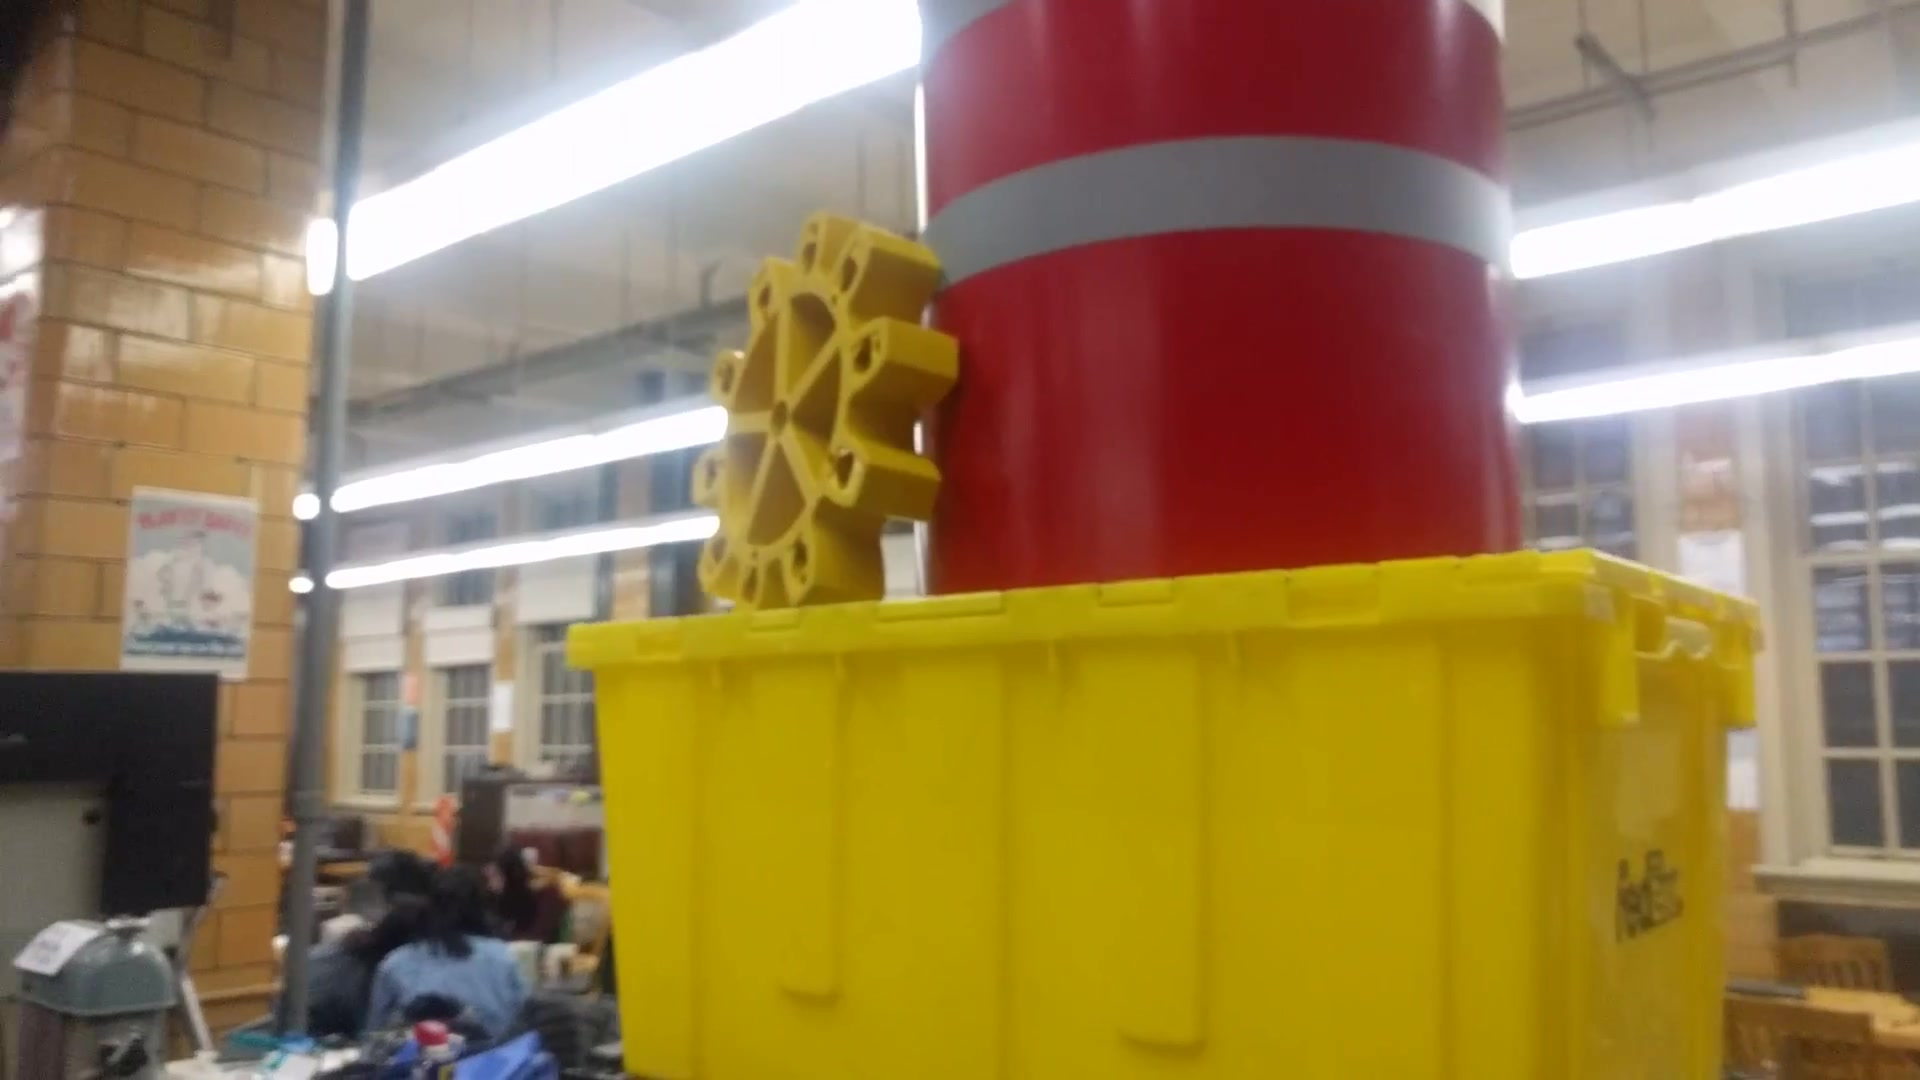gear: (692, 200, 955, 625)
